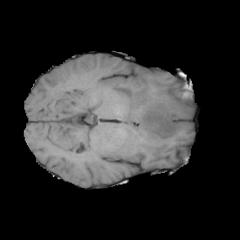glioma: (110, 75, 191, 150)
